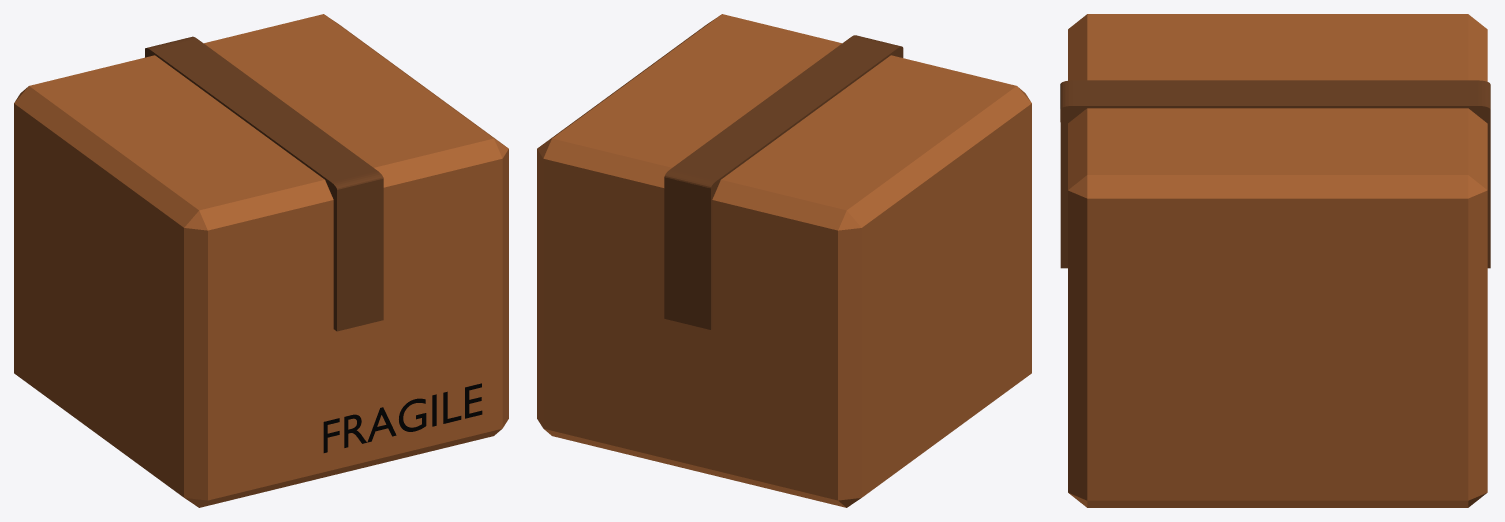
The model's file is finalMovingBoxClosed.fbx.
The picture shows the model from 3 angles, left to right: view 1: azimuth 30°, elevation 25°; view 2: azimuth 150°, elevation 25°; view 3: azimuth 270°, elevation 25°; orthographic projection. The views are drawn at different scales.
Parts seen in each view (by area): view 1: Cube, fragile; view 2: Cube; view 3: Cube.
Part boxes in pixels (<box>): Cube: <box>14,14,508,507</box>; fragile: <box>323,383,482,452</box>; Cube: <box>537,14,1031,507</box>; Cube: <box>1060,14,1490,507</box>.
Size of the model in its own units: 45.7 by 40.27 by 46.84.
